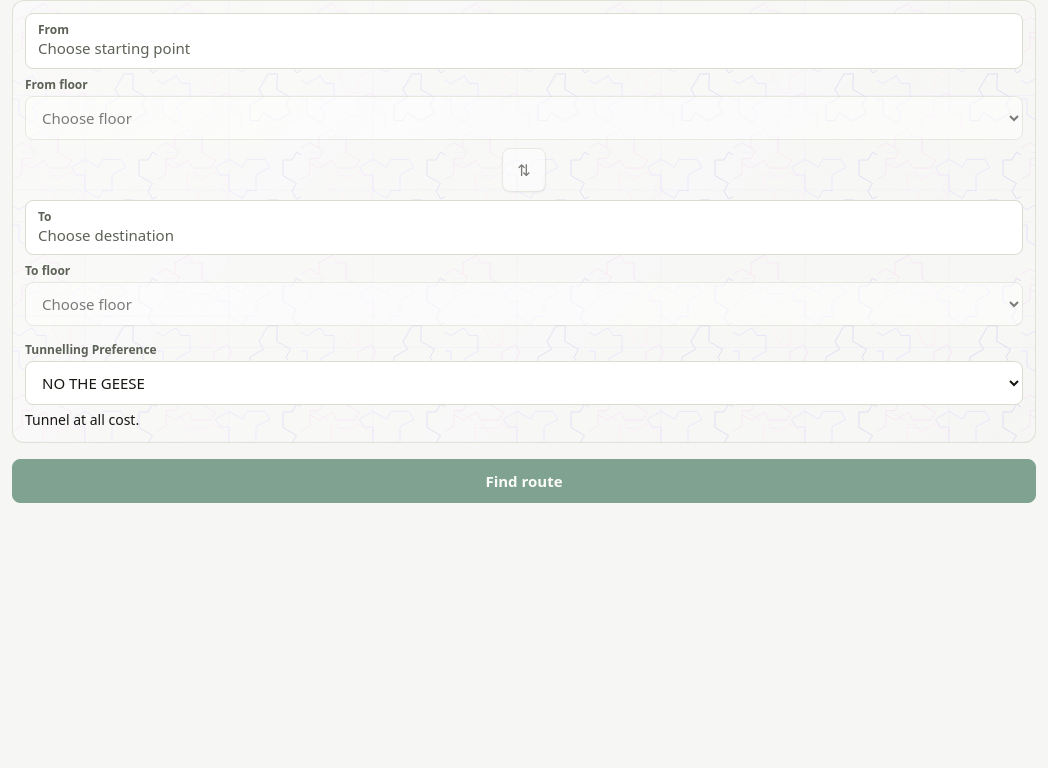
Scenario: RouteForm › shows a no-results state for irrelevant queries
Click the button named "fromchoose starting point": x=54, y=30 [25,13,1023,68]
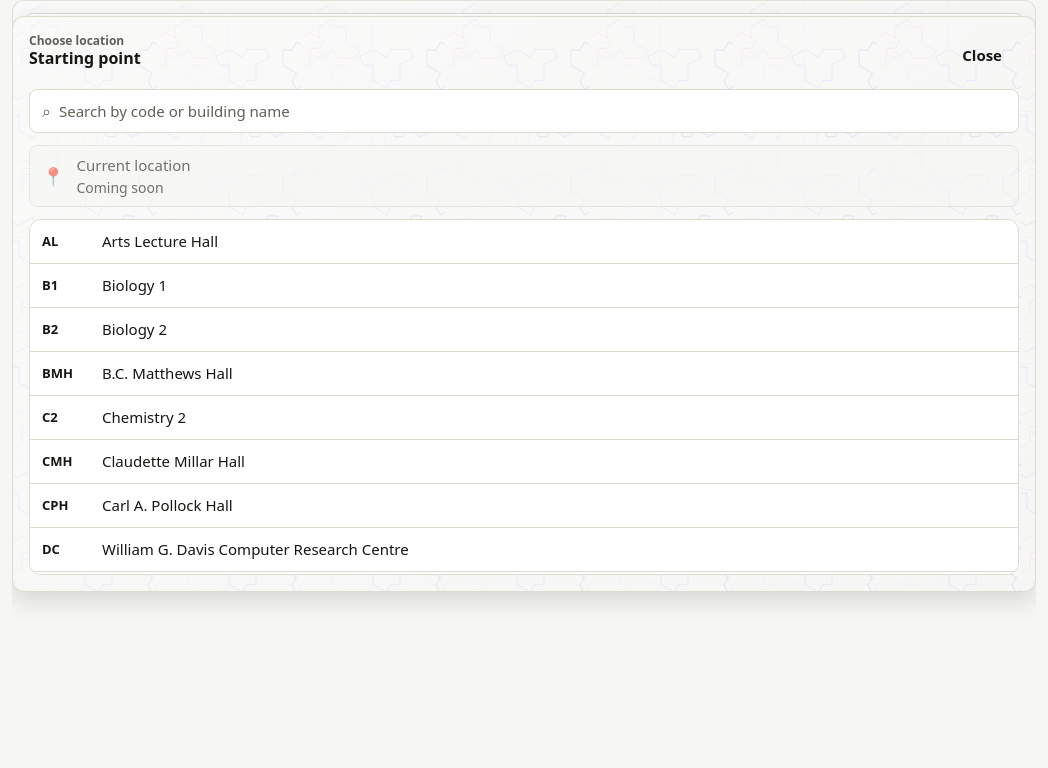
In the search field named "search starting point": x=532, y=111 [59,92,1006,130], type "not a waterloo building"
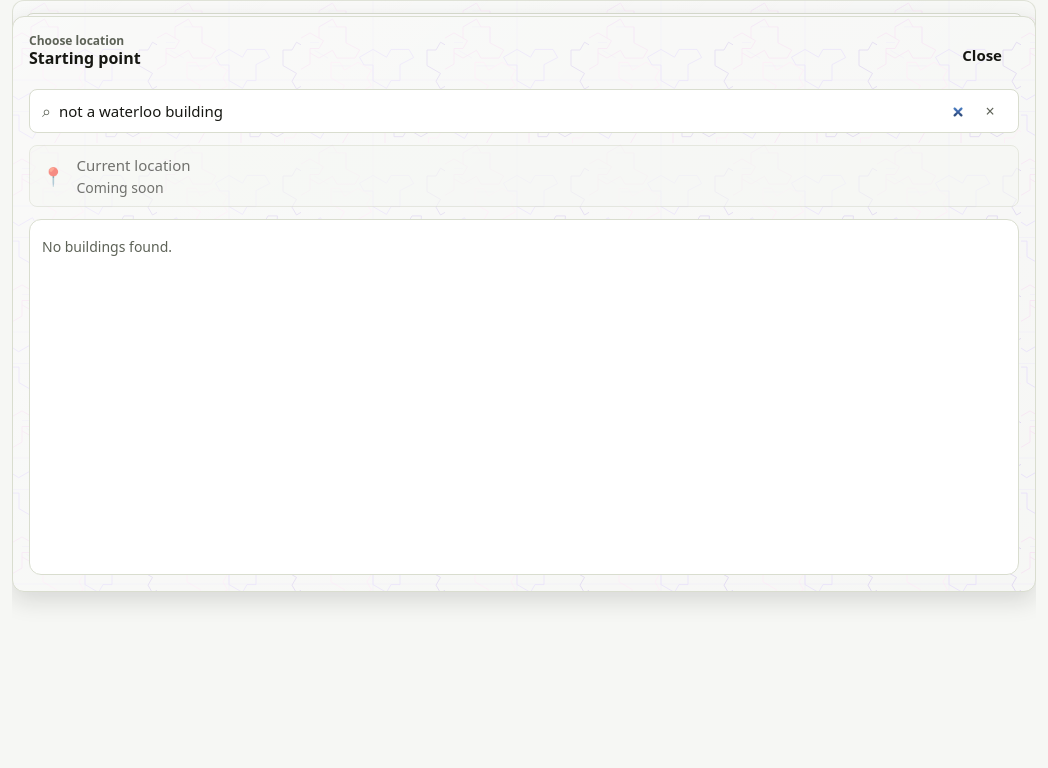
Expected: the text "No buildings found." is shown, [42,236,172,256]
